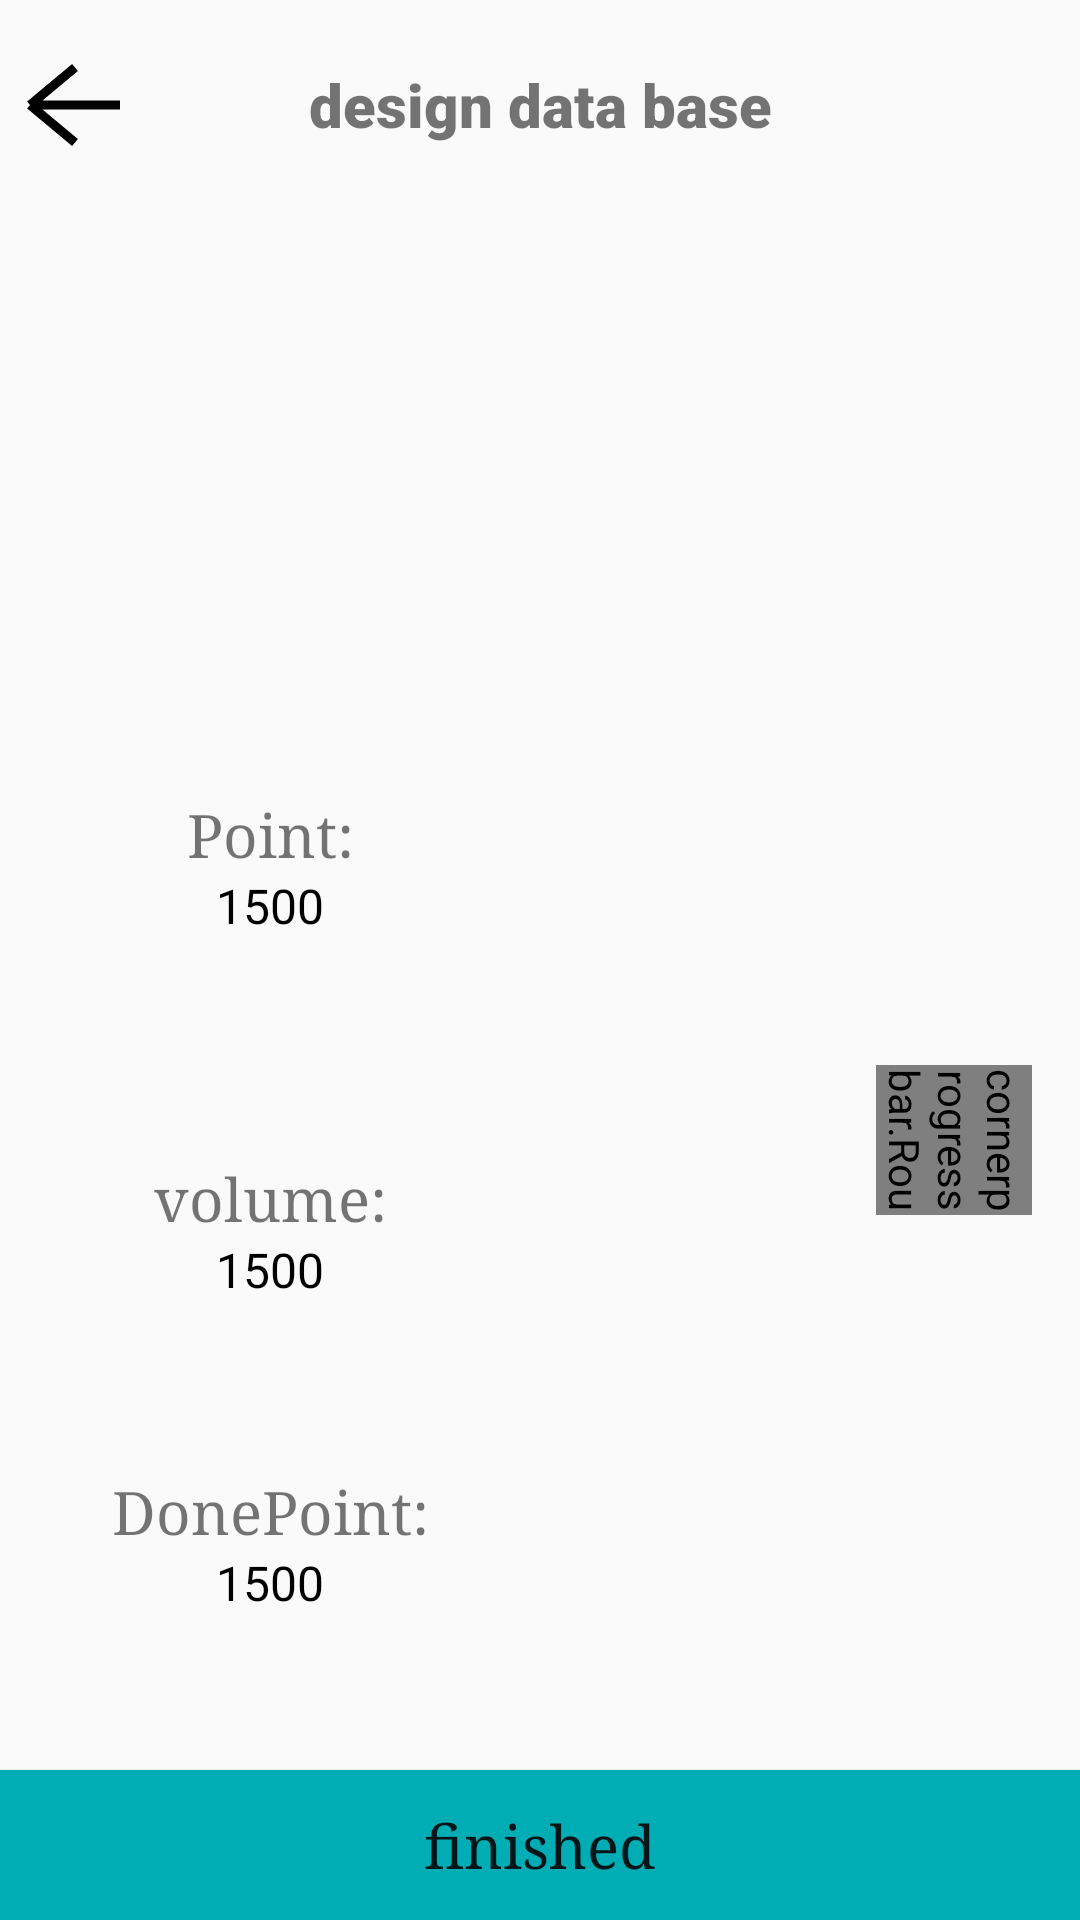

Named icons in this screenshot (1080*1920) and their bounding boxes, [x1=x1, y1=y1, x2=x2, y2=y2]:
back: [x1=27, y1=64, x2=120, y2=146]
